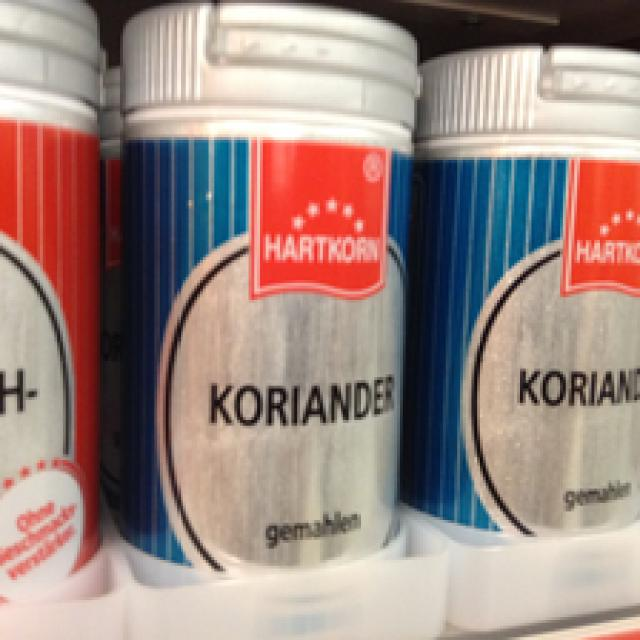groceries: (120, 0, 417, 574), (414, 37, 637, 532)
